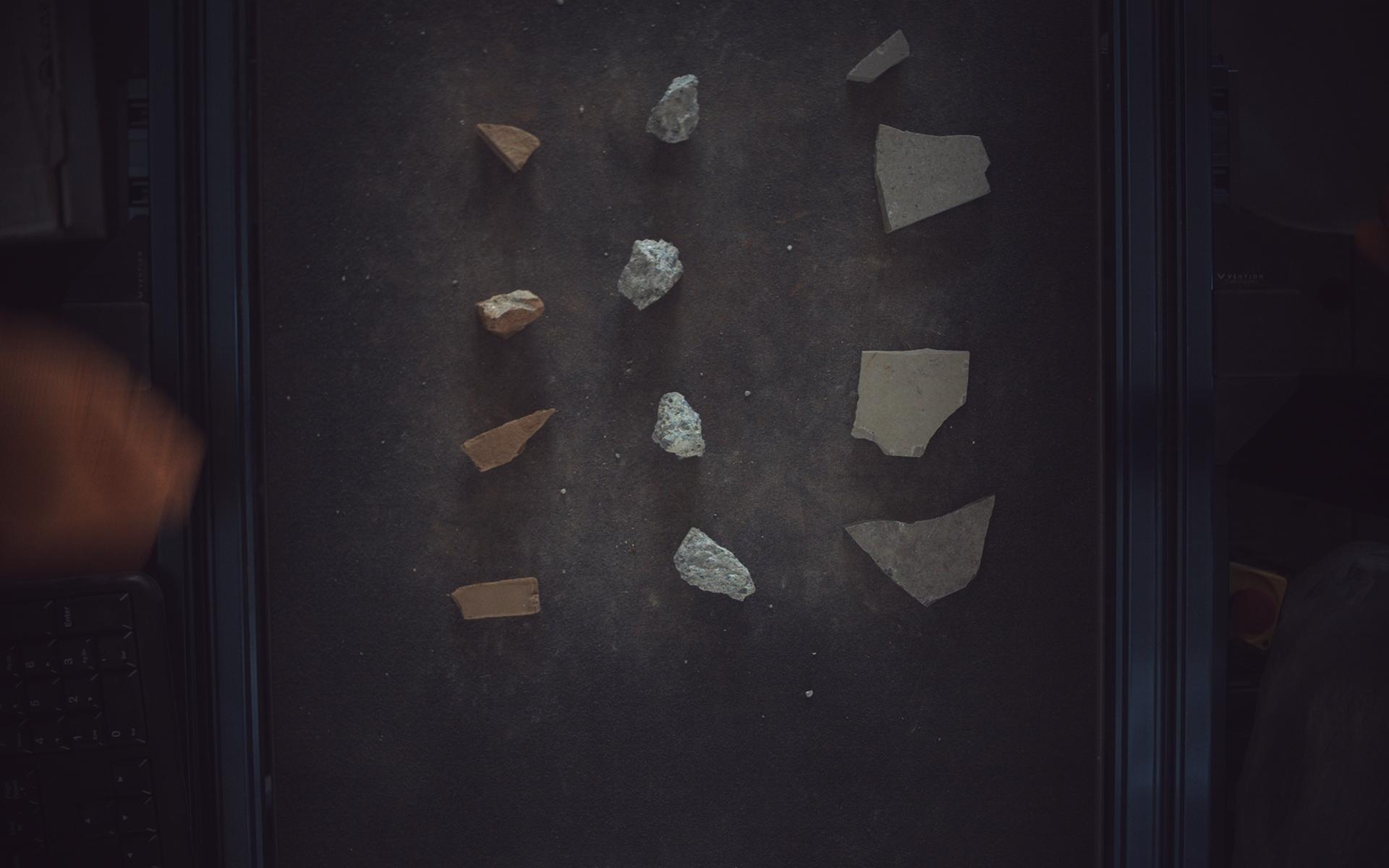brick: (462, 410, 556, 472), (451, 578, 540, 621), (477, 289, 544, 339), (476, 122, 540, 171)
concrete: (675, 528, 757, 601), (619, 239, 684, 310), (647, 73, 700, 142), (653, 392, 705, 459)
tile: (847, 496, 997, 606), (853, 349, 972, 457), (877, 124, 993, 232), (849, 28, 911, 81)
